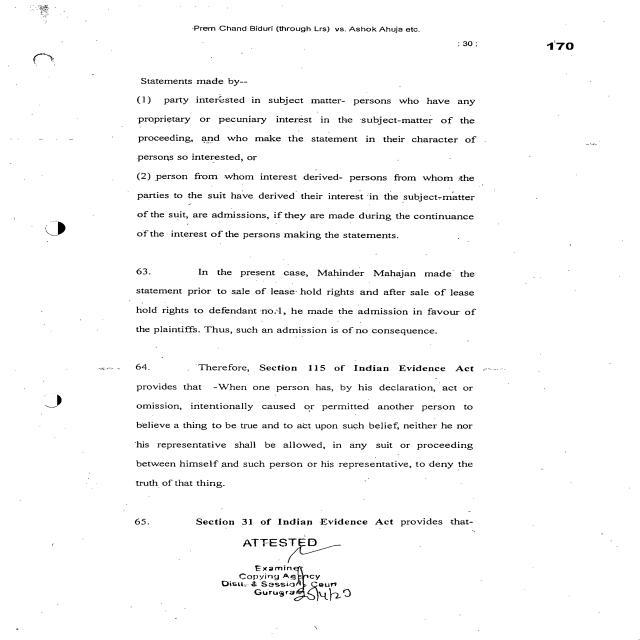page-number: (481, 0, 638, 60)
